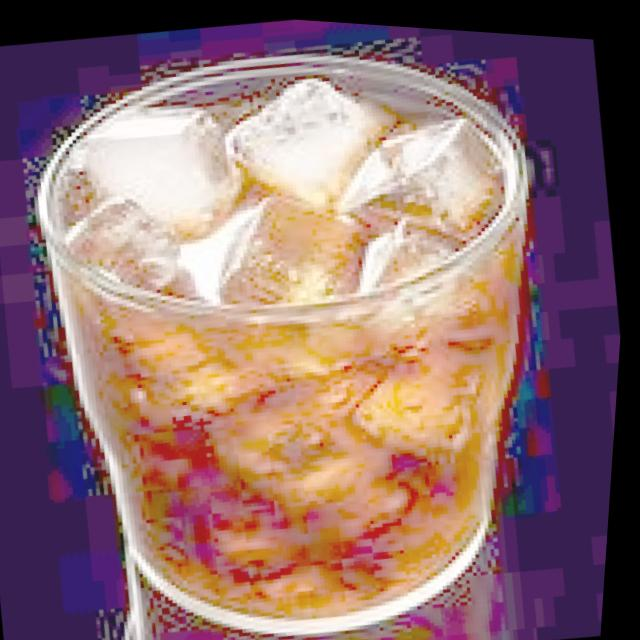drink: (42, 51, 525, 622)
